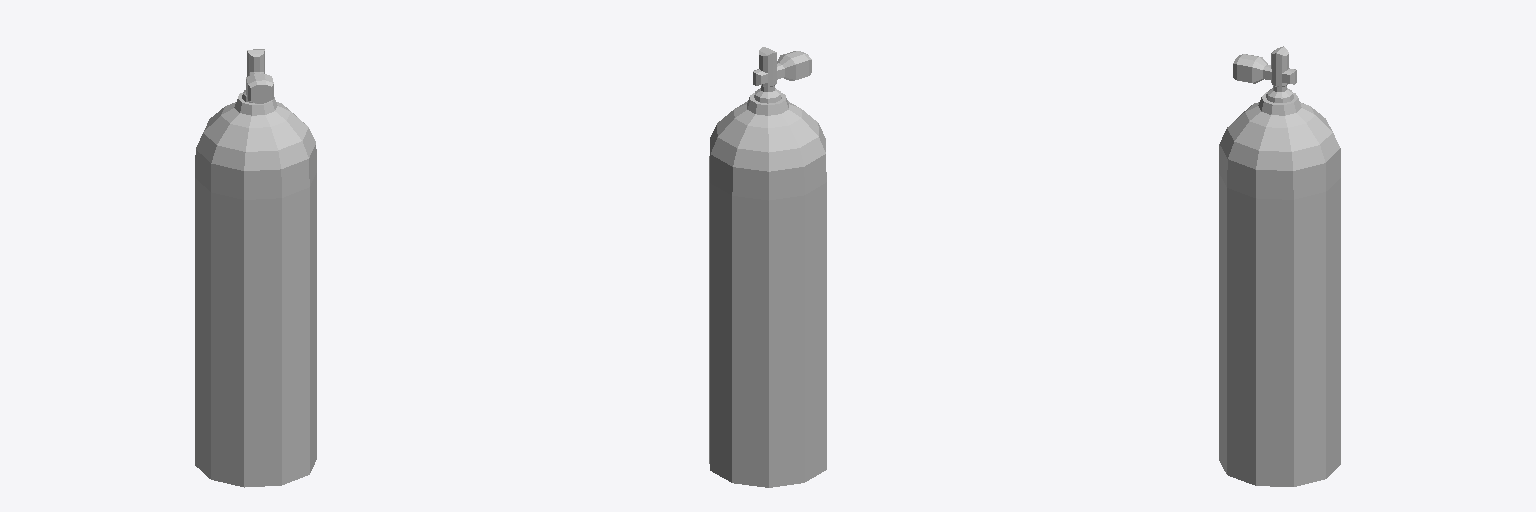
The model's file is Tank2.obj.
3 views of the same model, side by side, from view 1: azimuth 30°, elevation 25°; view 2: azimuth 150°, elevation 25°; view 3: azimuth 270°, elevation 25° (orthographic).
Visible parts, largest first — view 1: Tank2; view 2: Tank2; view 3: Tank2.
Part boxes in pixels (x1,y1,x2,y2): Tank2: (195,49,316,487); Tank2: (709,47,826,487); Tank2: (1219,46,1340,486).
Bounding box in the file's own units: 40.54 × 153 × 41.39.